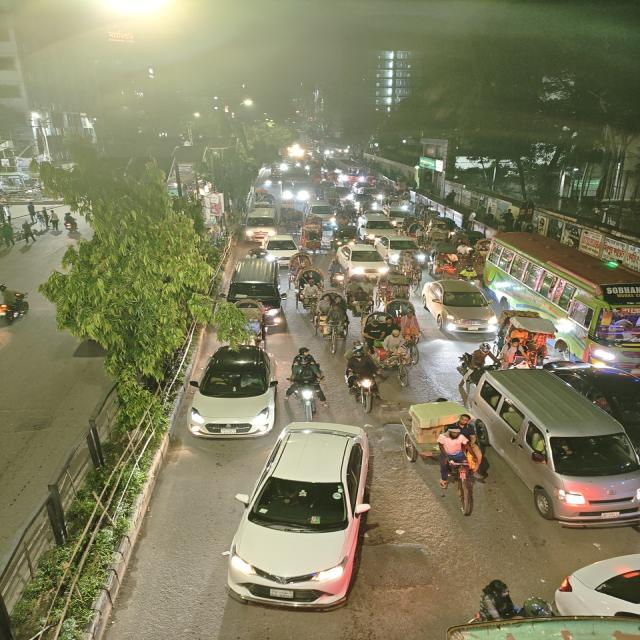bus: (486, 231, 640, 371), (280, 169, 312, 204)
car: (224, 421, 378, 617), (470, 360, 640, 532), (183, 340, 280, 446), (553, 549, 640, 623), (225, 250, 289, 329), (421, 277, 498, 341), (334, 242, 389, 280), (241, 206, 279, 241), (377, 234, 424, 262), (356, 211, 401, 240), (258, 234, 302, 258), (307, 202, 337, 223)
cng: (332, 226, 358, 246)
motorcycle: (287, 348, 329, 418), (342, 347, 384, 408), (0, 282, 32, 330), (463, 341, 492, 389), (328, 258, 347, 289)
pedestrian: (0, 220, 17, 254), (19, 218, 37, 248), (47, 210, 61, 235)
rickshaw: (400, 395, 487, 510), (502, 311, 570, 369), (374, 330, 420, 387), (312, 290, 350, 354), (360, 310, 395, 350), (376, 271, 413, 305), (426, 216, 458, 244), (298, 266, 324, 296), (300, 221, 324, 253), (288, 251, 313, 275), (62, 210, 79, 232)
